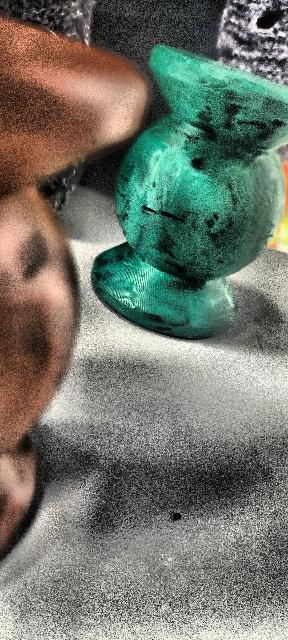blue: (90, 44, 286, 340)
red: (0, 16, 145, 558)
